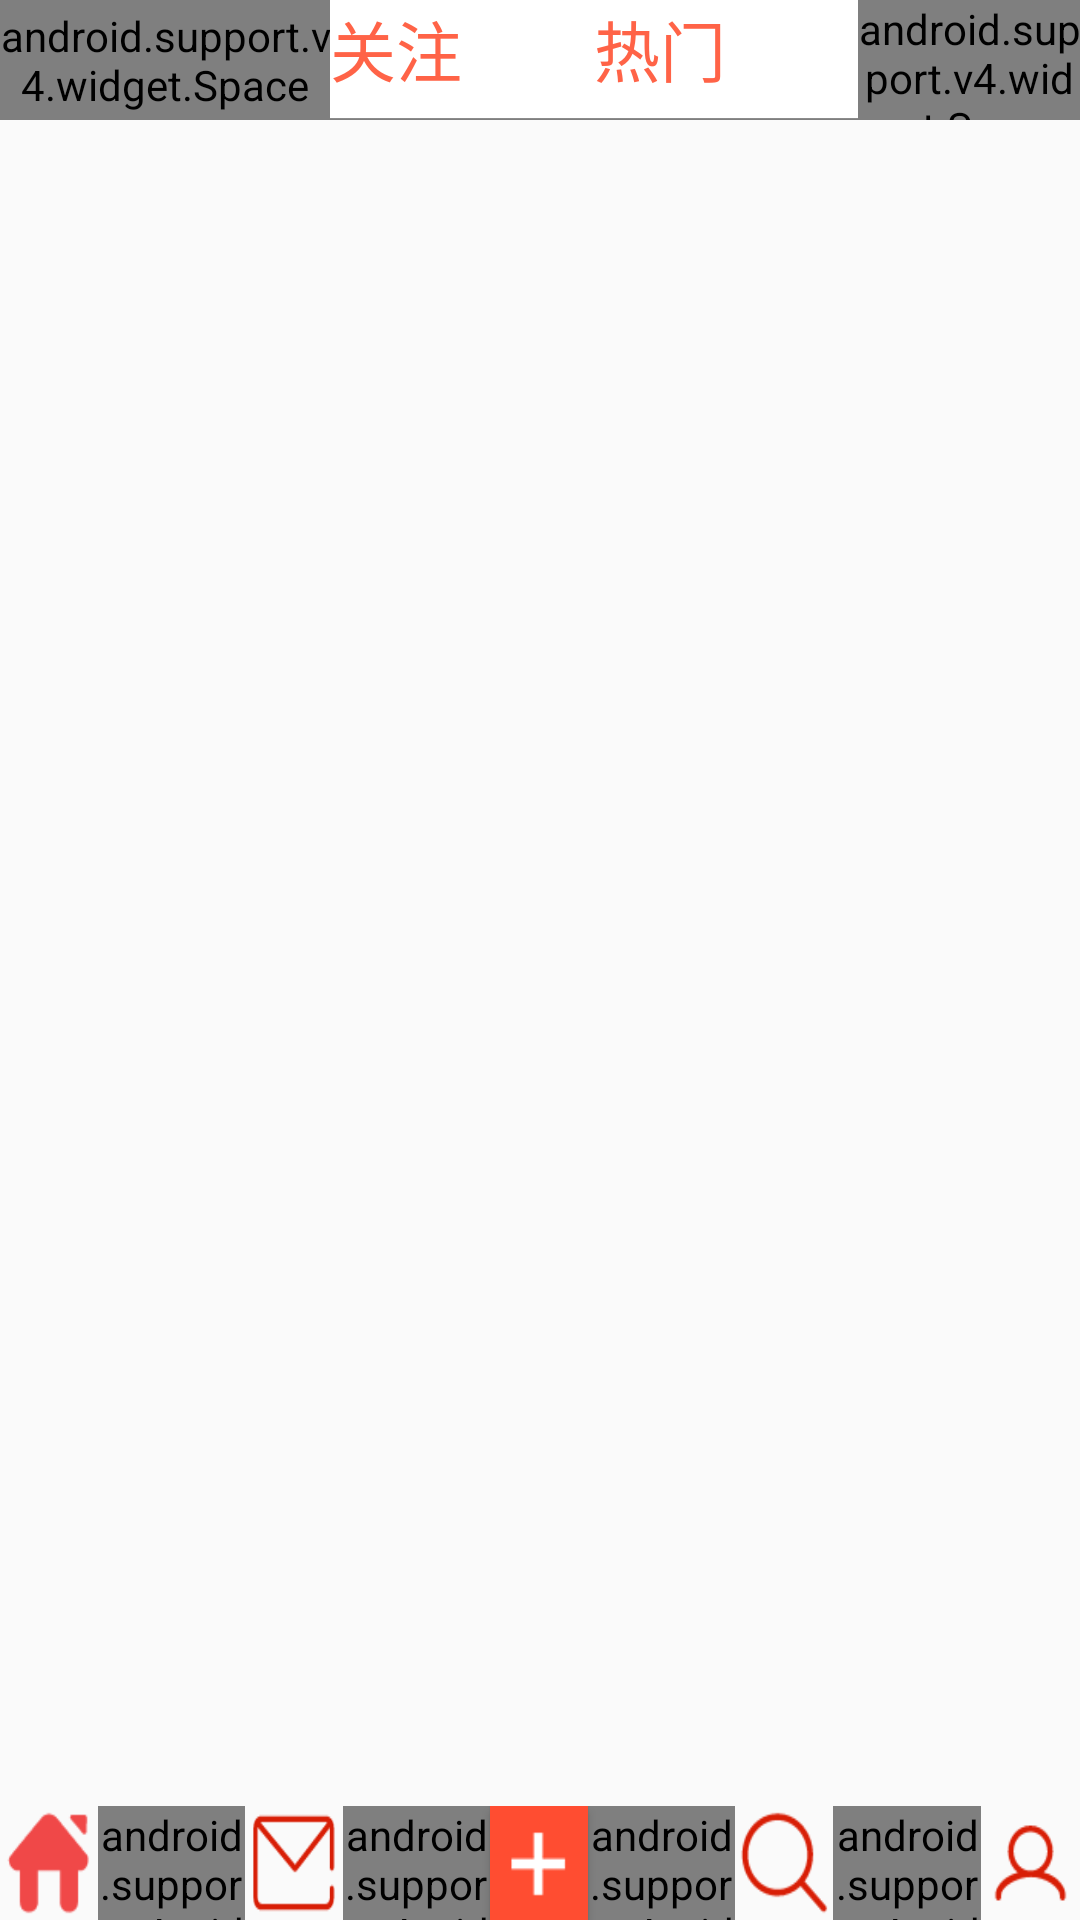

Named icons in this screenshot (1080w x 1920h) and their bounding boxes, (x1, y1, x2, y2):
add: (490, 1806, 588, 1920)
homepage: (8, 1813, 89, 1913)
magnifier: (741, 1812, 827, 1913)
message: (253, 1815, 335, 1911)
